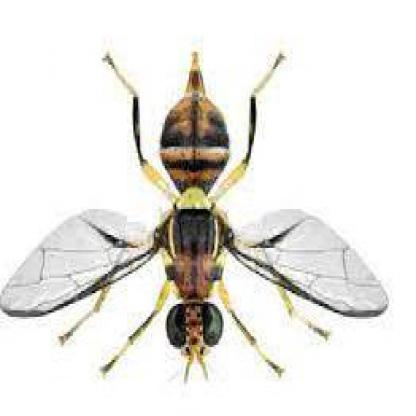fruit fly: (0, 51, 390, 384)
